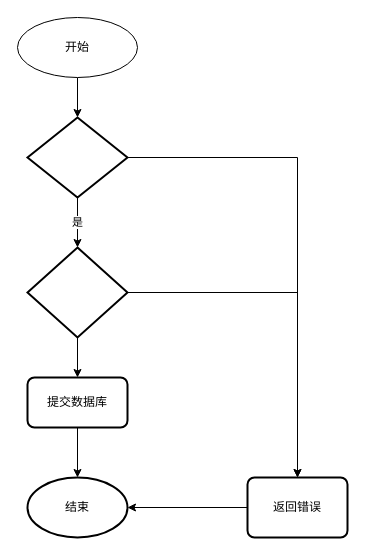
Image size: 366x556. Some labels were removed from this diagram. The shapes that lost their labels are listed below. From the top down, each one's box as (x1, y1, x2, y2) in pixels, then its label:
(26, 116, 128, 198): 根据id判断用户是否存在
(26, 246, 128, 338): 判断用户名重复性
